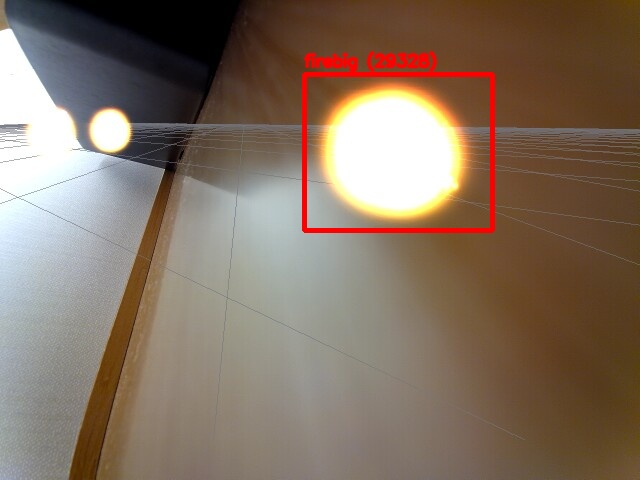firebig: (304, 74, 492, 230)
